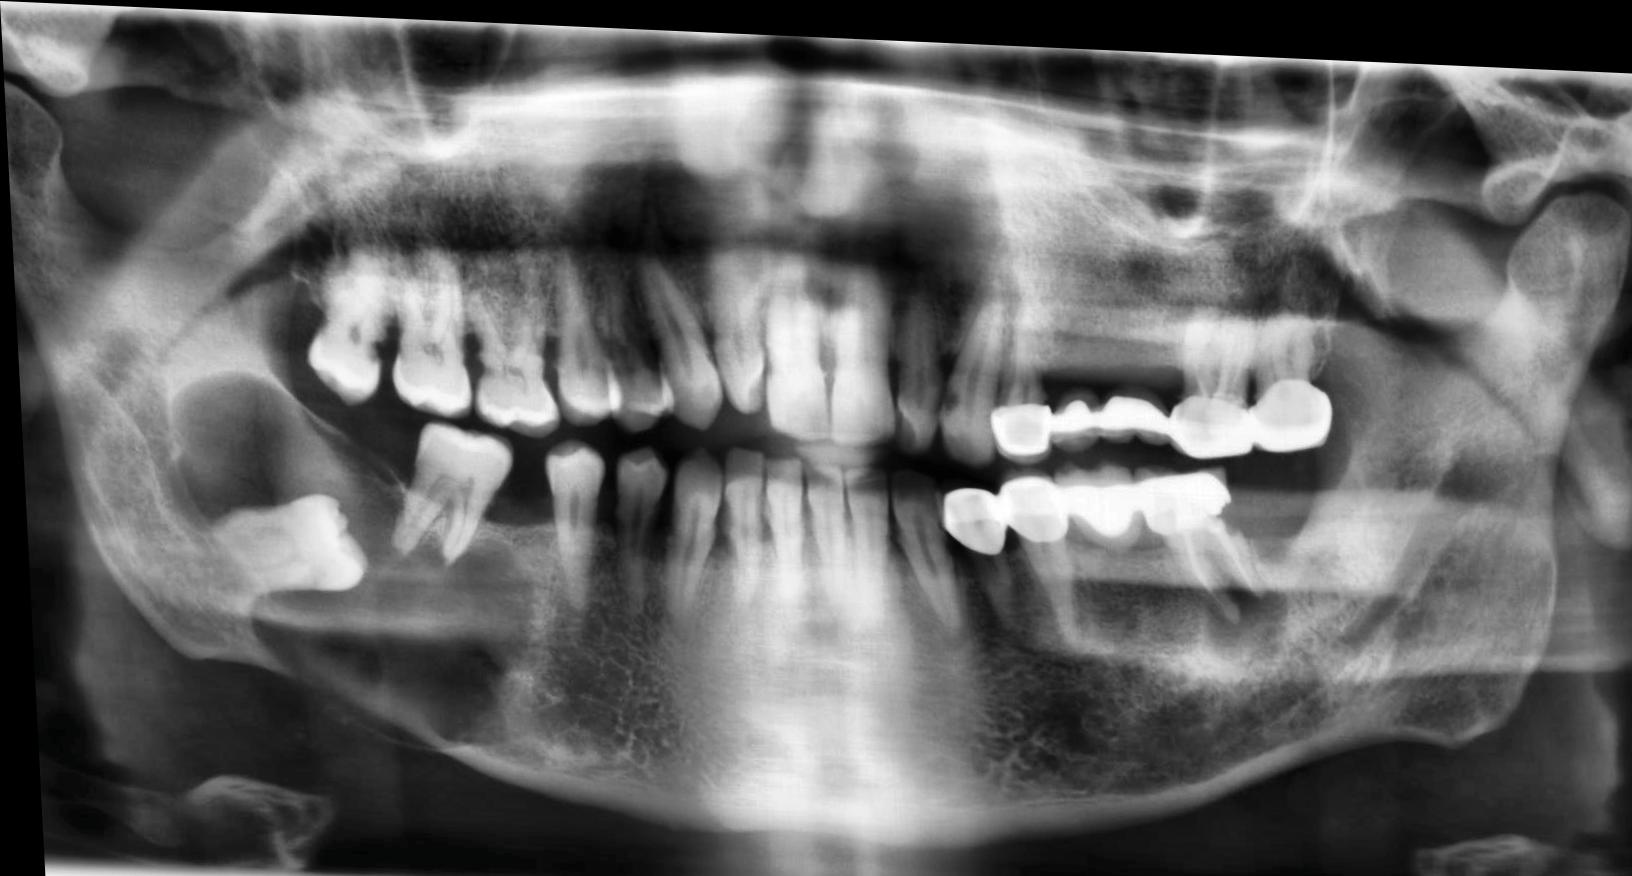keratokist: (154, 364, 538, 752)
radikuler: (1195, 549, 1289, 659)
